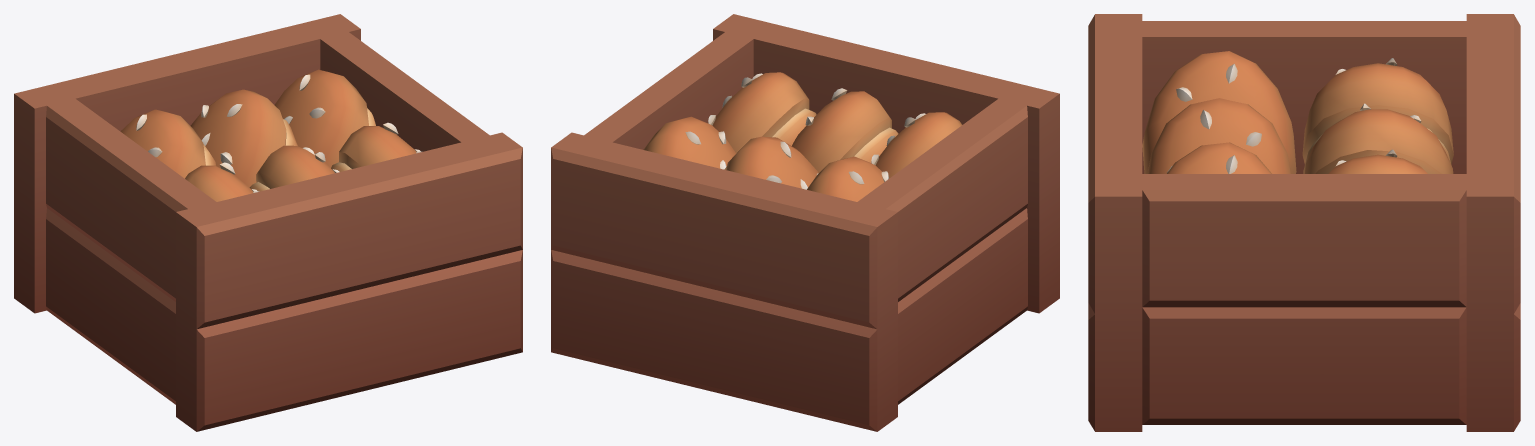
Rendered from crate_dough.glb.
The picture shows the model from 3 angles, left to right: view 1: azimuth 30°, elevation 25°; view 2: azimuth 150°, elevation 25°; view 3: azimuth 270°, elevation 25°; orthographic projection. The views are drawn at different scales.
Parts seen in each view (by area): view 1: crate_buns; view 2: crate_buns; view 3: crate_buns.
Boxes of the visible parts, left/top/right/bottom form: crate_buns: left=14, top=14, right=522, bottom=431; crate_buns: left=551, top=14, right=1059, bottom=431; crate_buns: left=1088, top=14, right=1520, bottom=431.
Bounding box in the file's own units: 1 × 0.6018 × 1.
Materials: 1 (1 with a texture image).
